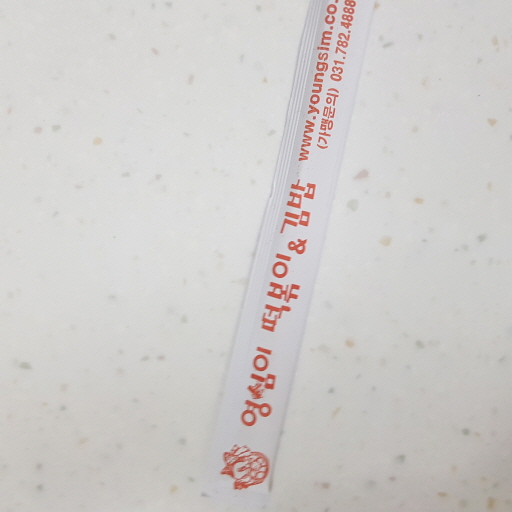Paper_2: (206, 1, 370, 512)
